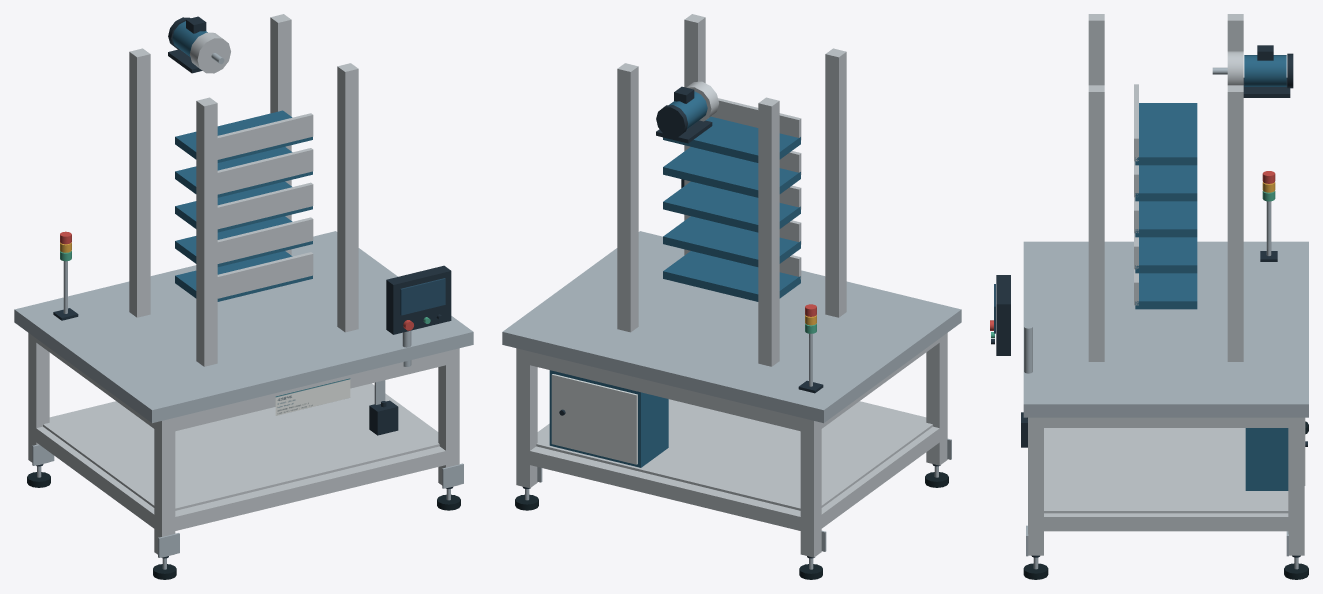
Rendered from bucket-elevator-cell.glb.
3 renders of one model, left to right at view 1: azimuth 30°, elevation 25°; view 2: azimuth 150°, elevation 25°; view 3: azimuth 270°, elevation 25°, orthographic. The views are drawn at different scales.
Visible parts, largest first — view 1: ClosedMachineBed_28, LowerShelf_29, SlottedExtrusion_49, SlottedExtrusion_48, SlottedExtrusion_51, SlottedExtrusion_22, SlottedExtrusion_23, SlottedExtrusion_8, SlottedExtrusion_24, ConsoleBack_34, BucketLip_53, BucketLip_55 (+15 smaller); view 2: ClosedMachineBed_28, LowerShelf_29, BackDoor_31, SlottedExtrusion_48, SlottedExtrusion_49, SlottedExtrusion_50, SlottedExtrusion_20, SlottedExtrusion_21, CarrierStep_56, CarrierStep_52, CarrierStep_54, CarrierStep_58 (+11 smaller); view 3: ClosedMachineBed_28, LowerShelf_29, SlottedExtrusion_26, SlottedExtrusion_50, SlottedExtrusion_51, CarrierStep_60, SlottedExtrusion_27, Cabinet_30, SlottedExtrusion_13, CarrierStep_56, CarrierStep_58, CarrierStep_52 (+9 smaller).
Boxes of the visible parts, x1,y1,x2,y2 form: ClosedMachineBed_28: (14, 231, 473, 423); LowerShelf_29: (43, 384, 439, 510); SlottedExtrusion_49: (196, 97, 217, 366); SlottedExtrusion_48: (129, 48, 150, 317); SlottedExtrusion_51: (337, 63, 358, 332); SlottedExtrusion_22: (175, 446, 452, 530); SlottedExtrusion_23: (175, 350, 452, 431); SlottedExtrusion_8: (154, 417, 175, 557); SlottedExtrusion_24: (32, 426, 157, 530); ConsoleBack_34: (386, 265, 451, 334); BucketLip_53: (217, 252, 313, 298); BucketLip_55: (217, 217, 313, 263); ClosedMachineBed_28: (502, 231, 961, 423); LowerShelf_29: (536, 399, 932, 510); BackDoor_31: (551, 374, 637, 464); SlottedExtrusion_48: (758, 97, 779, 366); SlottedExtrusion_49: (825, 48, 846, 317); SlottedExtrusion_50: (617, 63, 638, 332); SlottedExtrusion_20: (530, 446, 807, 532); SlottedExtrusion_21: (523, 350, 807, 432); CarrierStep_56: (663, 181, 800, 232); CarrierStep_52: (663, 251, 800, 301); CarrierStep_54: (663, 216, 800, 266); CarrierStep_58: (663, 147, 800, 197); ClosedMachineBed_28: (1023, 241, 1308, 417); LowerShelf_29: (1044, 428, 1288, 513); SlottedExtrusion_26: (1036, 513, 1296, 531); SlottedExtrusion_50: (1227, 85, 1243, 361); SlottedExtrusion_51: (1088, 85, 1104, 361); CarrierStep_60: (1135, 103, 1197, 165); SlottedExtrusion_27: (1036, 417, 1296, 427); Cabinet_30: (1245, 428, 1288, 490); SlottedExtrusion_13: (1288, 417, 1304, 555); CarrierStep_56: (1135, 201, 1197, 237); CarrierStep_58: (1135, 165, 1197, 201); CarrierStep_52: (1135, 273, 1197, 309).
Bounding box in the file's own units: 1.55 × 2.02 × 1.29.
11 materials, 1 textured.
